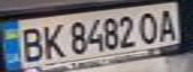2: (115, 11, 139, 48)
4: (84, 16, 106, 53)
8: (66, 18, 87, 55), (103, 15, 124, 51)
A: (154, 6, 181, 42)
B: (15, 25, 48, 63)
K: (36, 20, 66, 60)
O: (136, 8, 163, 45)
